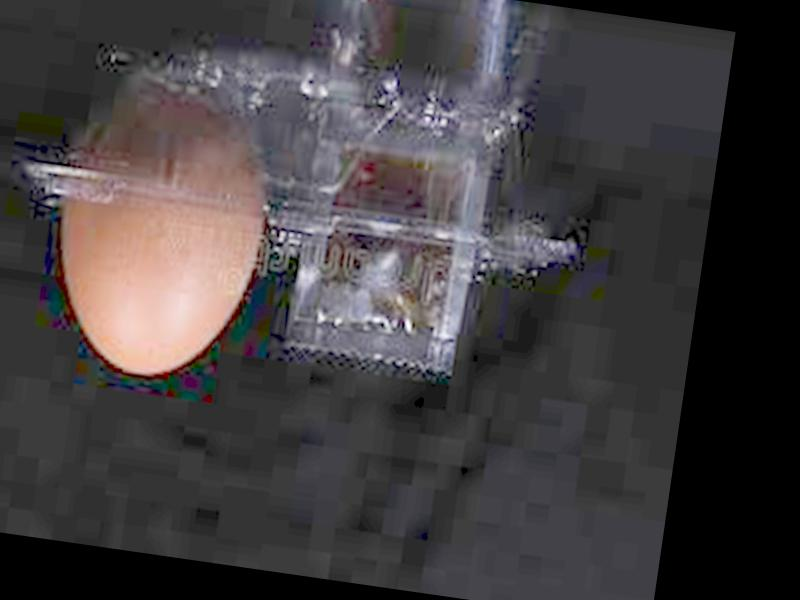Eggs: (38, 66, 279, 387)
